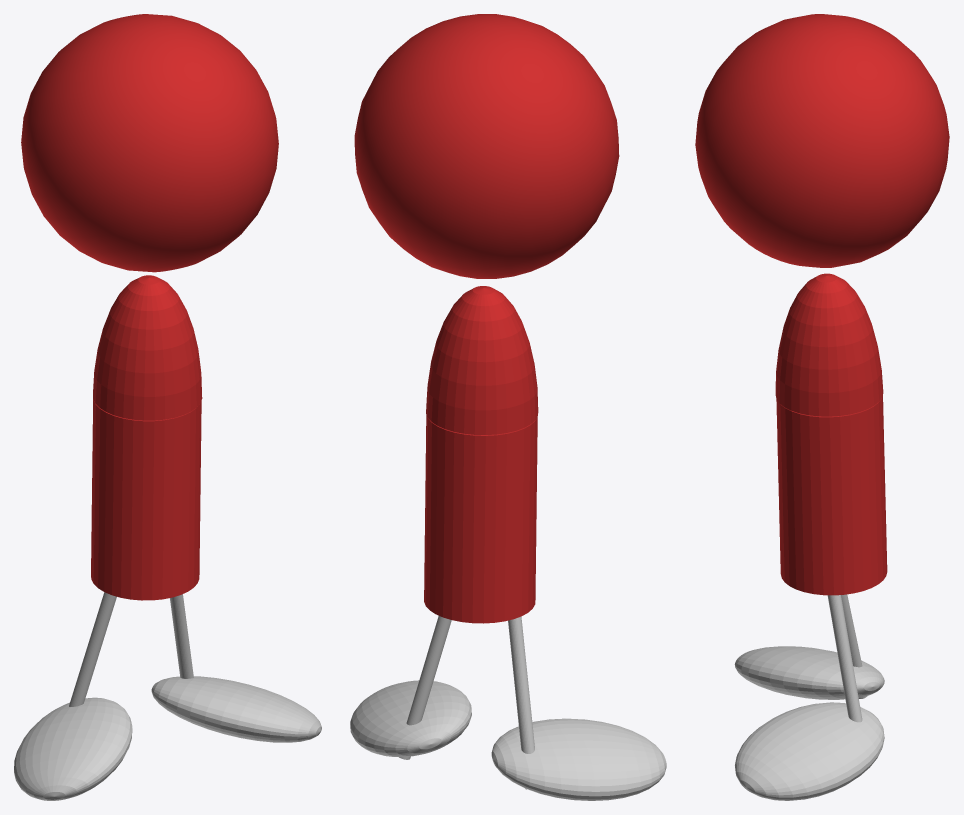
The model's file is player_red.obj.
The picture shows the model from 3 angles, left to right: view 1: azimuth 30°, elevation 25°; view 2: azimuth 150°, elevation 25°; view 3: azimuth 270°, elevation 25°; orthographic projection. The views are drawn at different scales.
Parts seen in each view (by area): view 1: Sphere, Sphere.001_Sphere.004, Cylinder.000_Cylinder.002, Cylinder.001; view 2: Sphere, Sphere.001_Sphere.004, Cylinder.000_Cylinder.002, Cylinder.001; view 3: Sphere, Sphere.001_Sphere.004, Cylinder.001, Cylinder.000_Cylinder.002.
Boxes of the visible parts, x1,y1,x2,y2 form: Sphere: (21, 14, 278, 272); Sphere.001_Sphere.004: (91, 275, 202, 600); Cylinder.000_Cylinder.002: (14, 592, 132, 800); Cylinder.001: (151, 594, 321, 742); Sphere: (354, 14, 619, 278); Sphere.001_Sphere.004: (424, 286, 538, 623); Cylinder.000_Cylinder.002: (491, 616, 666, 800); Cylinder.001: (350, 616, 471, 759); Sphere: (695, 14, 949, 267); Sphere.001_Sphere.004: (775, 273, 887, 595); Cylinder.001: (735, 595, 884, 800); Cylinder.000_Cylinder.002: (734, 594, 884, 699).
Bounding box in the file's own units: 2.58 × 6.19 × 2.
